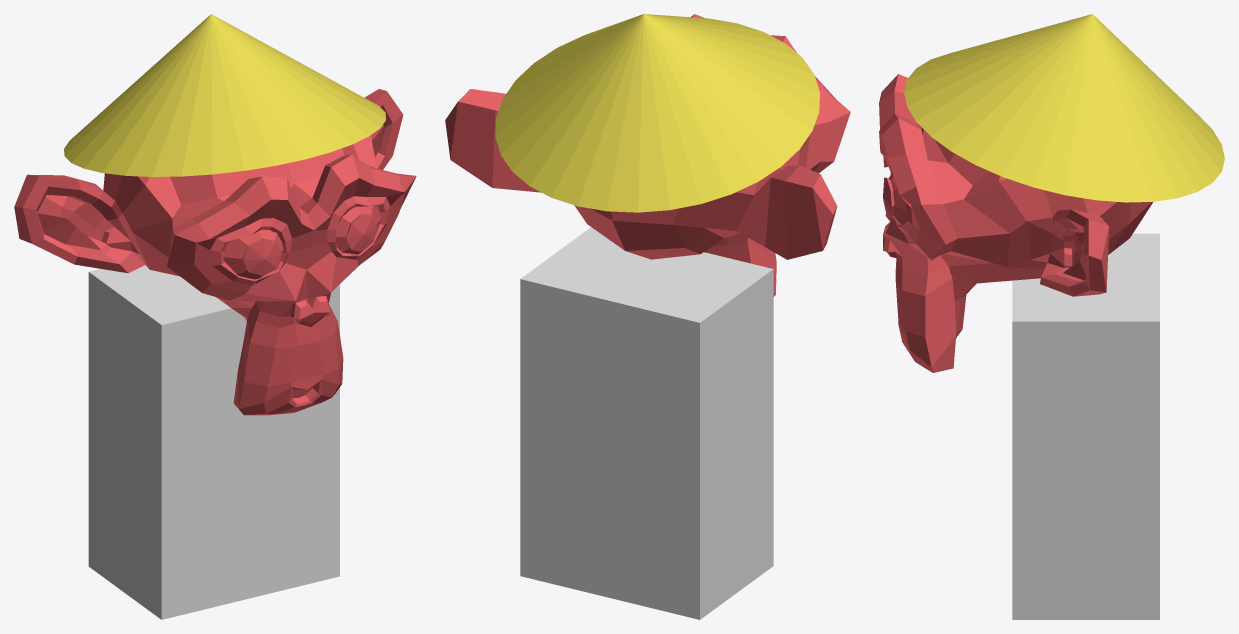
Rendered from monkey_with_hat.fbx.
3 views of the same model, side by side, from view 1: azimuth 30°, elevation 25°; view 2: azimuth 150°, elevation 25°; view 3: azimuth 270°, elevation 25° (orthographic).
Parts seen in each view (by area): view 1: Cube, Suzanne, Cone; view 2: Cube, Cone, Suzanne; view 3: Cube, Cone, Suzanne.
Part boxes in pixels (bbox=[...]): Cube: bbox=[88, 265, 339, 619]; Suzanne: bbox=[14, 89, 416, 415]; Cone: bbox=[64, 14, 386, 176]; Cube: bbox=[520, 227, 773, 619]; Cone: bbox=[495, 14, 819, 212]; Suzanne: bbox=[445, 14, 850, 296]; Cube: bbox=[1012, 233, 1159, 619]; Cone: bbox=[904, 14, 1224, 202]; Suzanne: bbox=[879, 74, 1152, 372].
Size of the model in its own units: 273 by 377 by 210.
